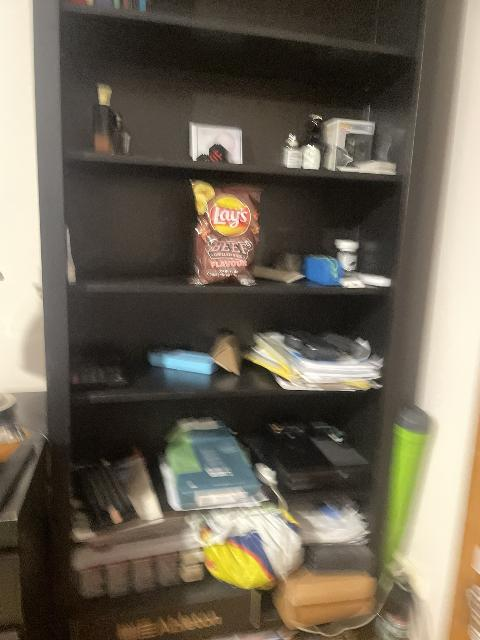Lays Beef Grilled Ribs 125g: (188, 182, 264, 287)
